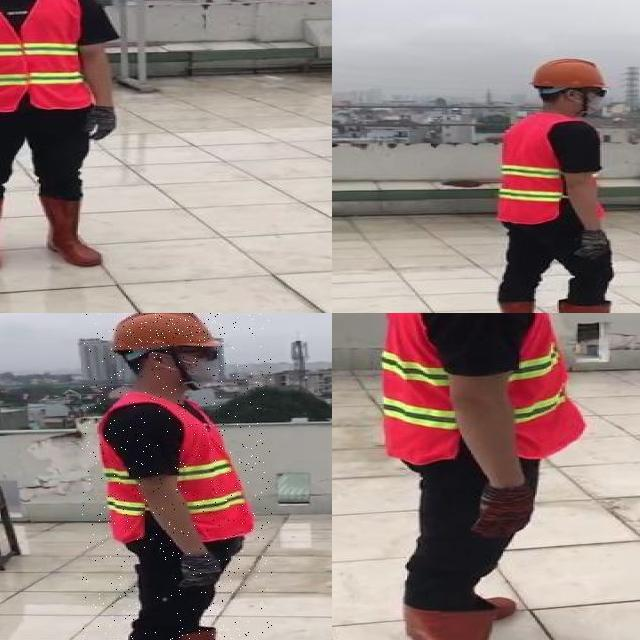boots: (402, 603, 560, 640), (41, 196, 108, 268), (557, 301, 640, 313), (496, 298, 539, 313)
face_mask: (566, 86, 612, 114)
hand_glove: (475, 484, 533, 538), (87, 108, 121, 138), (575, 230, 609, 259)
head_helmet: (112, 313, 226, 352), (530, 56, 610, 91)
person: (361, 313, 633, 640), (82, 313, 272, 640), (482, 49, 640, 313), (0, 0, 134, 282)
vest: (382, 313, 583, 464), (90, 392, 257, 540), (0, 0, 94, 113), (500, 112, 570, 224)
